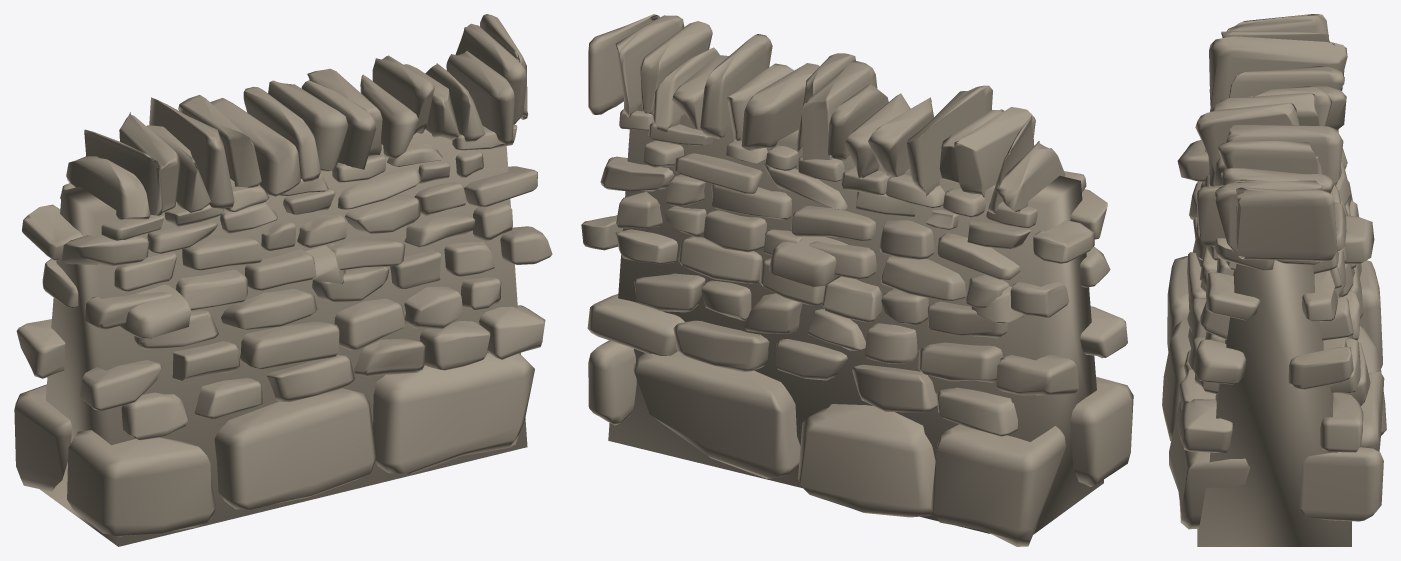
The model's file is boundary.dry_stone.wall_d.glb.
The picture shows the model from 3 angles, left to right: view 1: azimuth 30°, elevation 25°; view 2: azimuth 150°, elevation 25°; view 3: azimuth 270°, elevation 25°; orthographic projection. The views are drawn at different scales.
Parts seen in each view (by area): view 1: main__stone_a98; view 2: main__stone_a98; view 3: main__stone_a98.
Part boxes in pixels (x1,y1,x2,y2): main__stone_a98: (14, 14, 552, 546); main__stone_a98: (581, 14, 1133, 546); main__stone_a98: (1162, 14, 1386, 546).
Bounding box in the file's own units: 2.26 × 1.74 × 0.9594.
